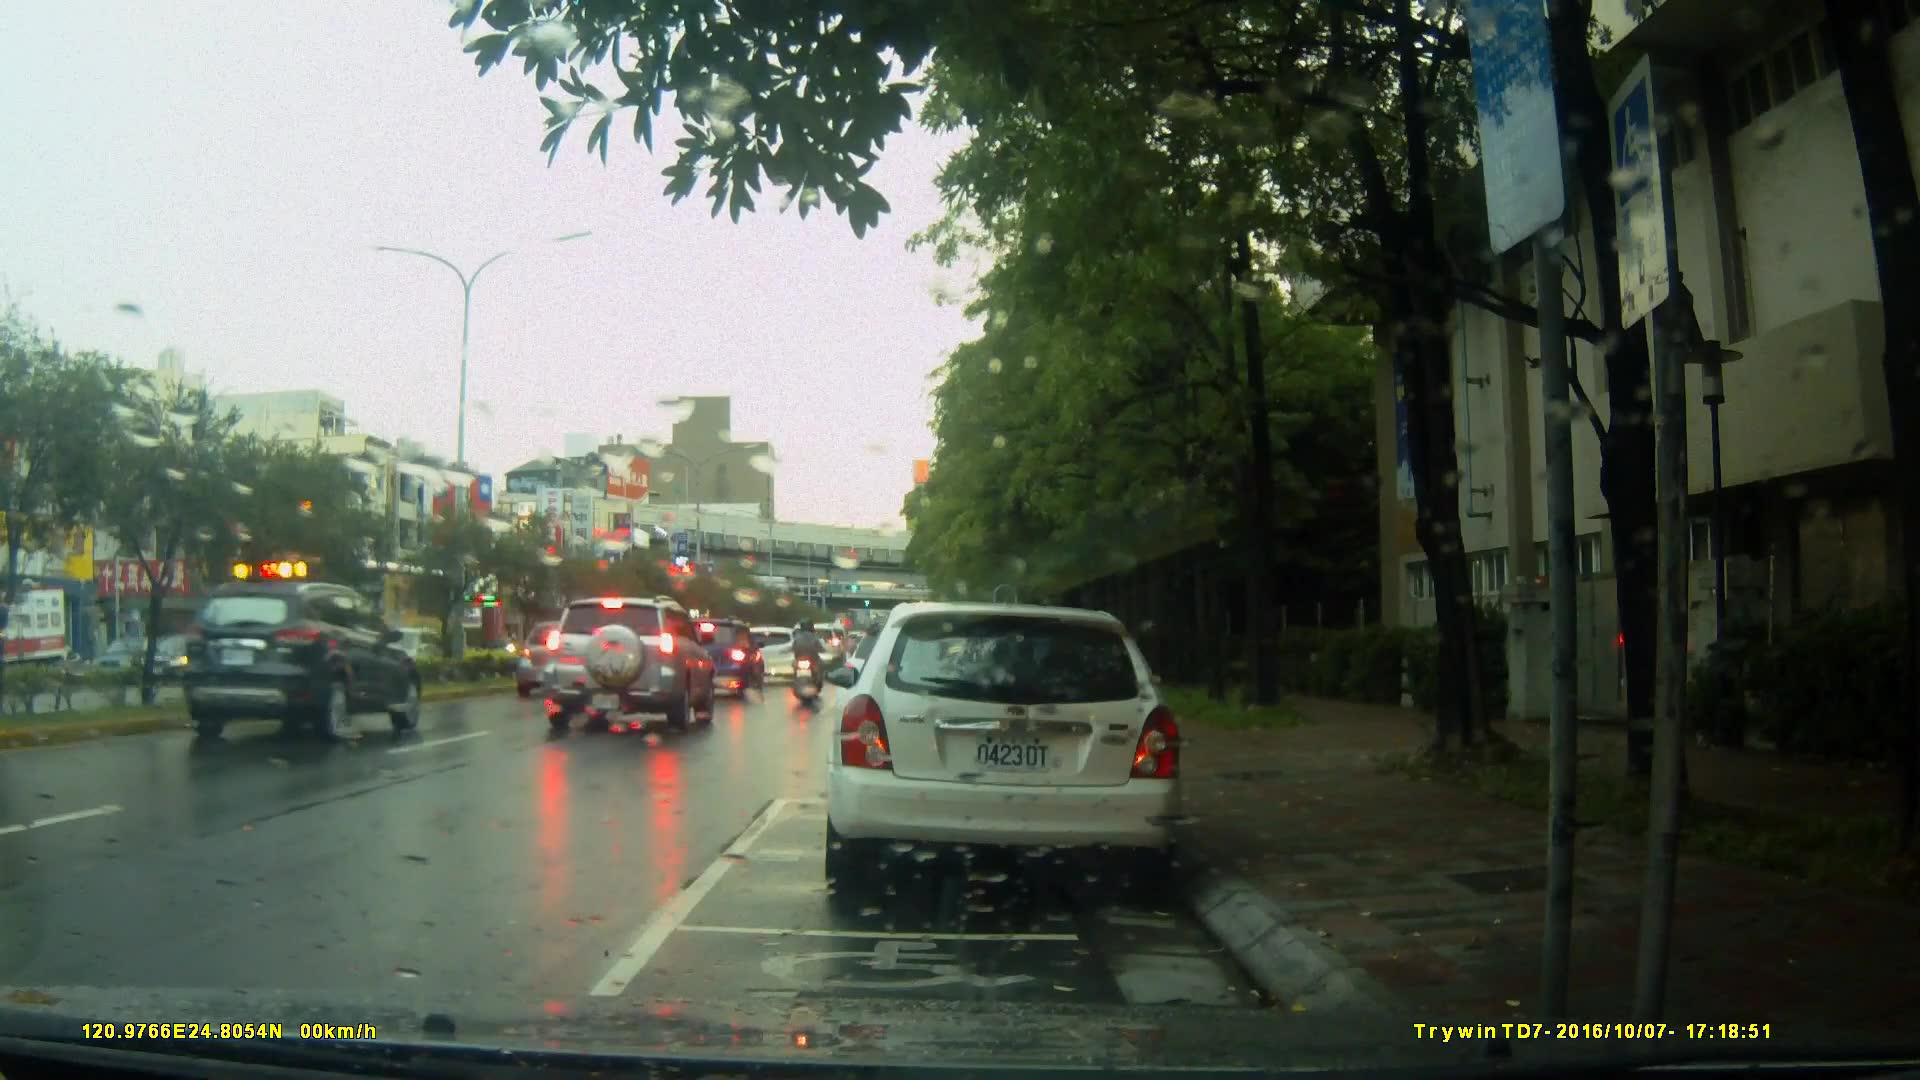rider: (792, 612, 832, 712)
vehicle: (820, 602, 1188, 898), (177, 581, 429, 746), (547, 596, 721, 731), (672, 616, 769, 692)
